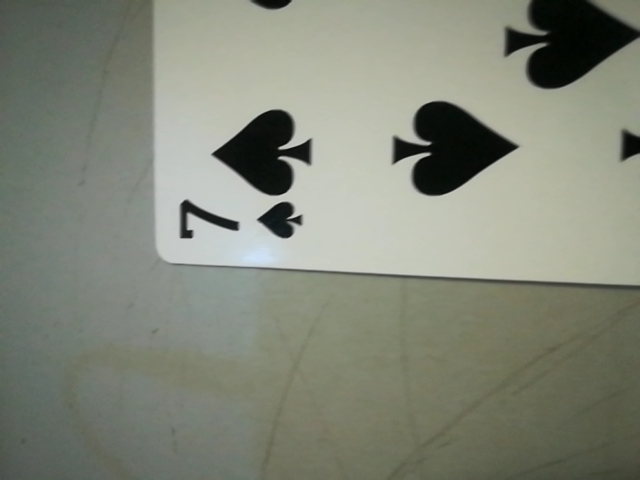ht 7: (158, 181, 311, 263)
